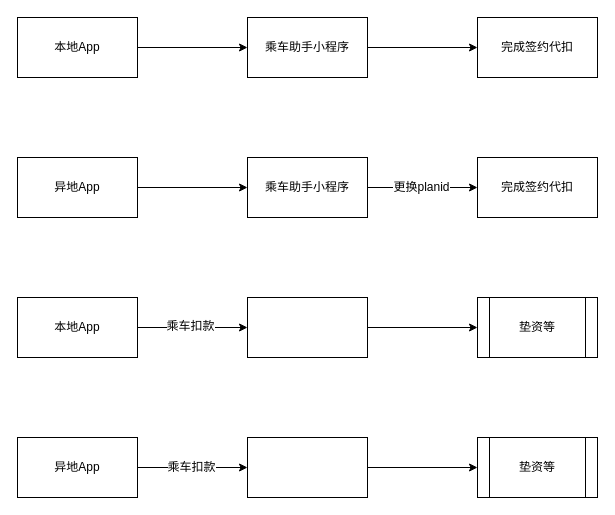
The diagram is 615 pixels wide and 515 high, and some of its shapes have lost their labels. The centre of each missing label's shape, as x and y in pixels:
异地yktid扣费: the point at 307,467
本地yktid扣费: the point at 307,327
